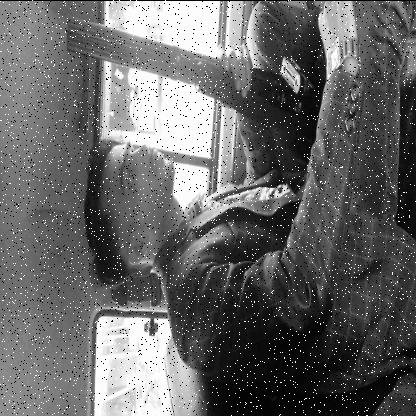rifle: (66, 13, 328, 140)
